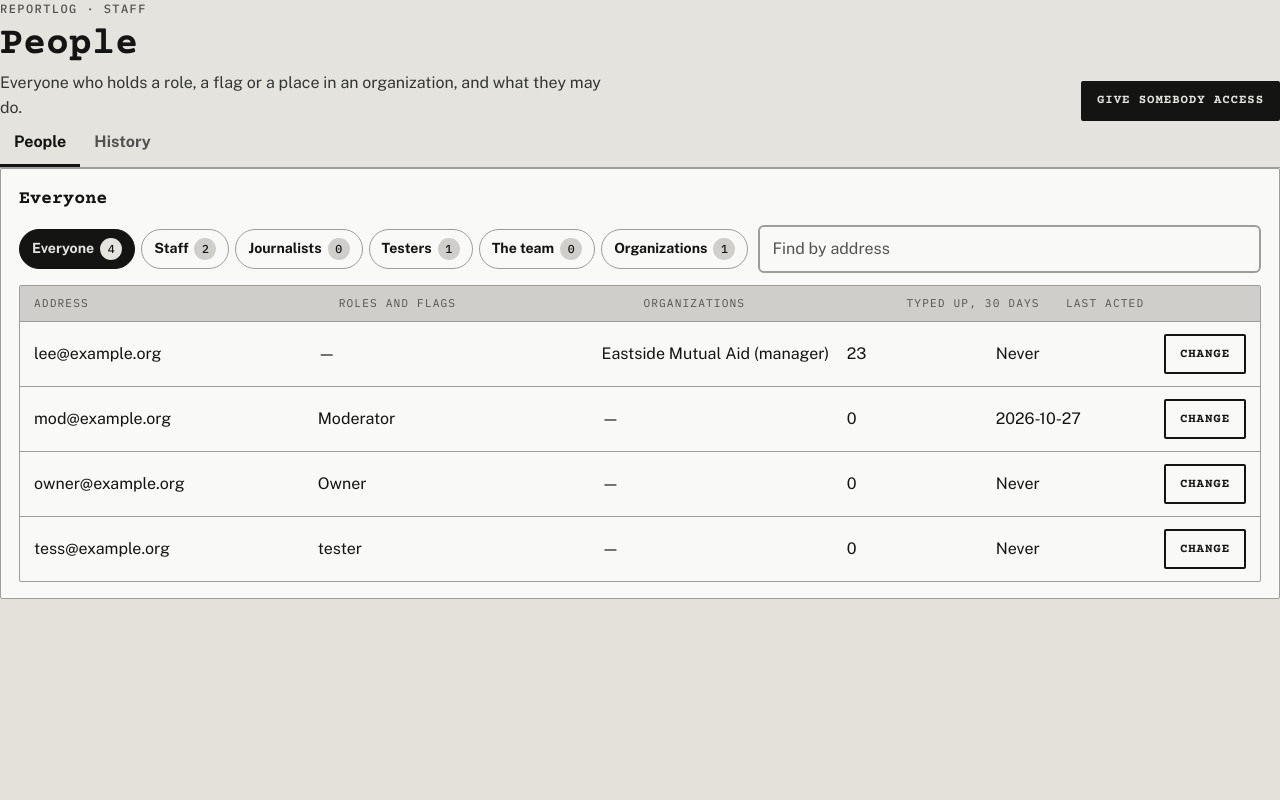
Test: People › offers an Access Manager the moderator role and the flags, never administrator
This screenshot has width=1280, height=800.
Click the button with aria-label "Change mod@example.org". click: [1205, 419]
box: [1164,399,1246,439]
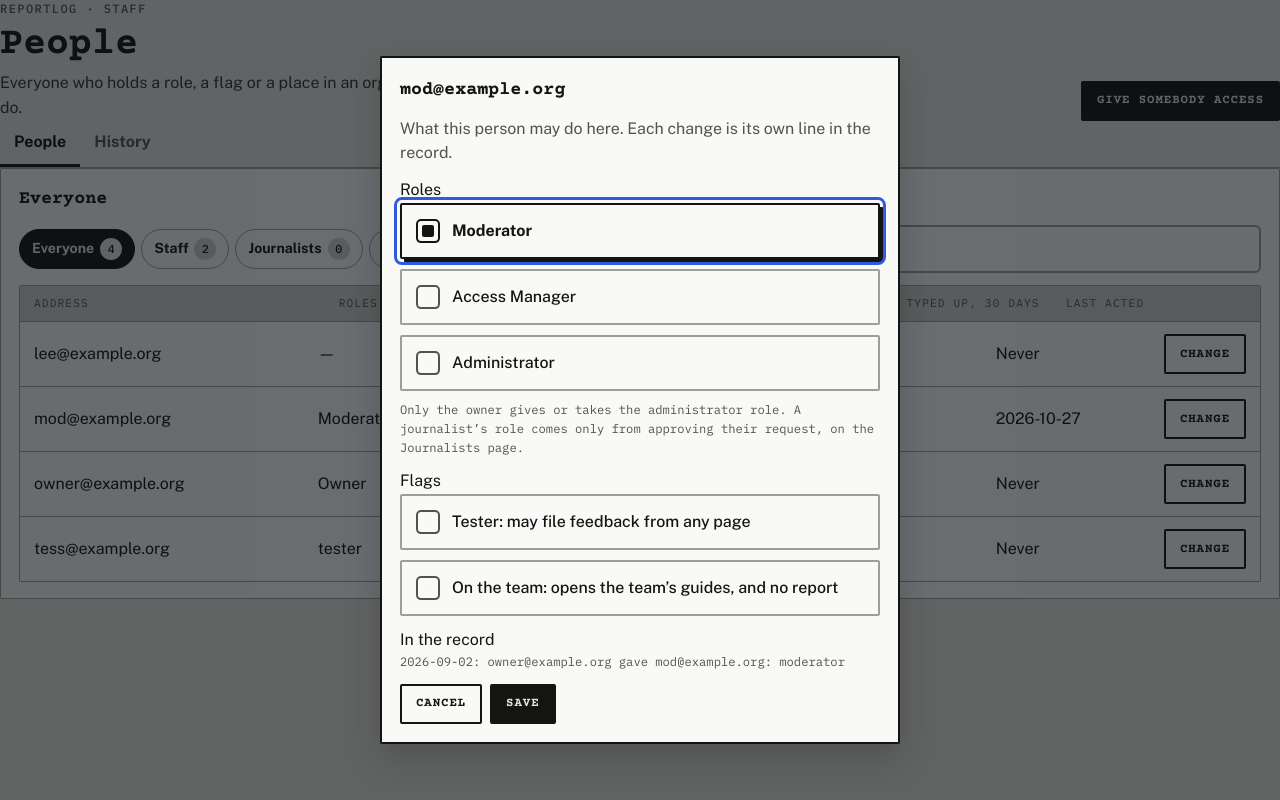
Expected: the checkbox labelled "Moderator" is enabled
Expected: the checkbox labelled "Access Manager" is disabled, [400,269,880,325]
Expected: the checkbox labelled "Administrator" is disabled, [400,335,880,391]
Click the checkbox labelled "Moderator". click: [492, 230]
box: [400,203,880,259]
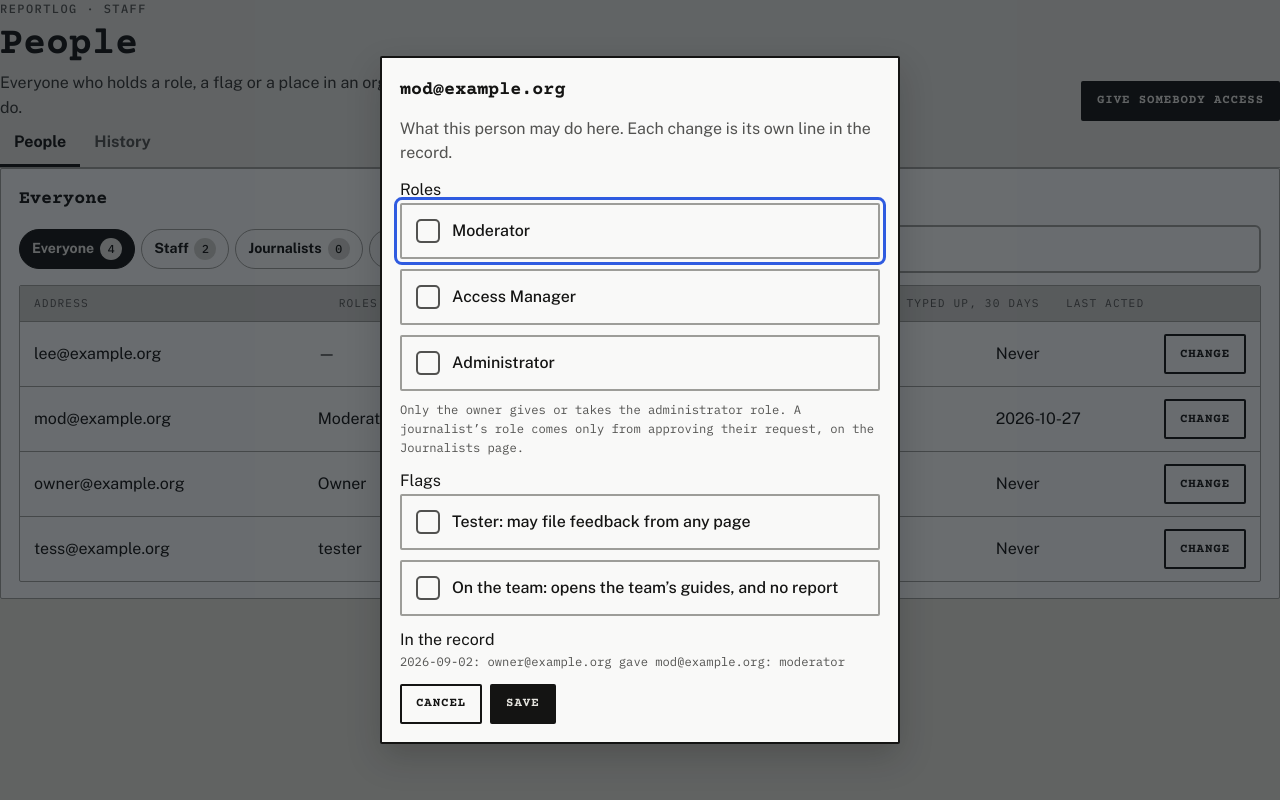
Click the checkbox labelled "Tester: may file feedback from any page". click: [640, 522]
box: [400,494,880,550]
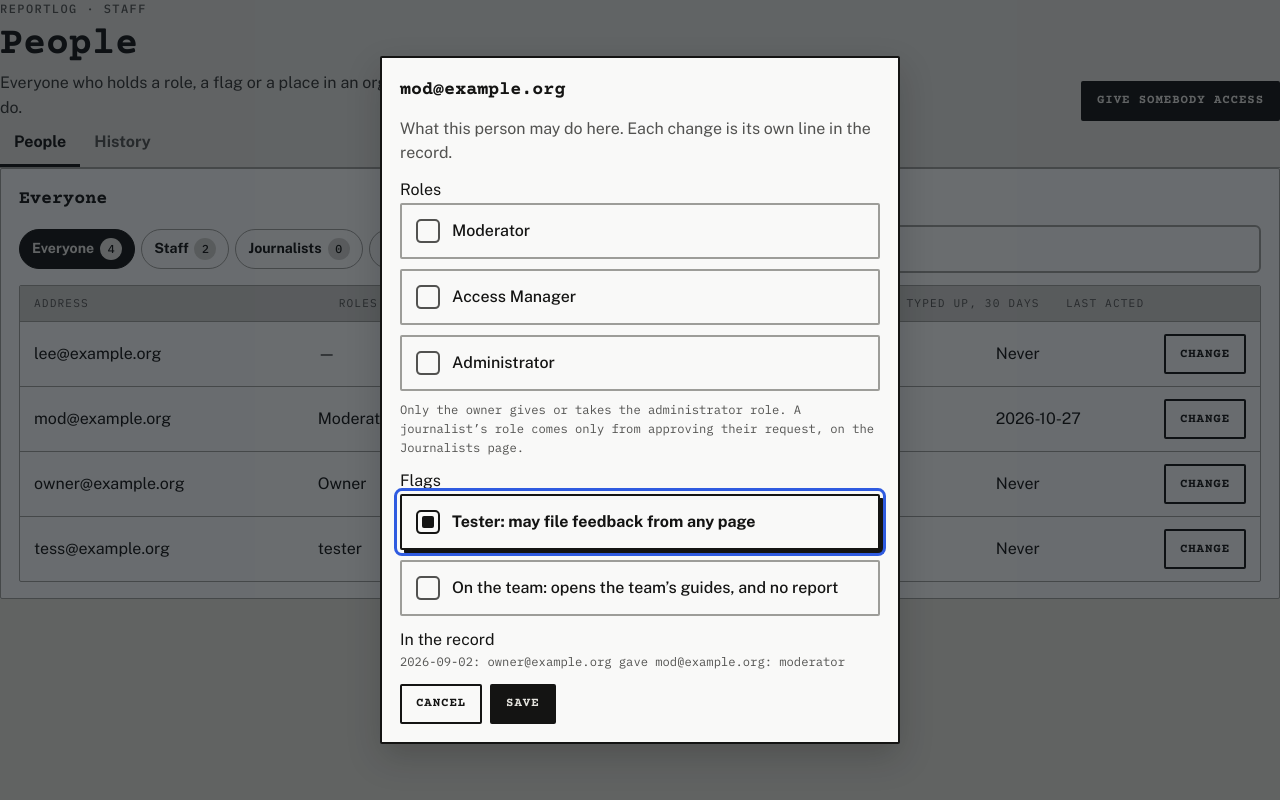
Click the button "Save". click: [523, 704]
box: [490,684,556,724]
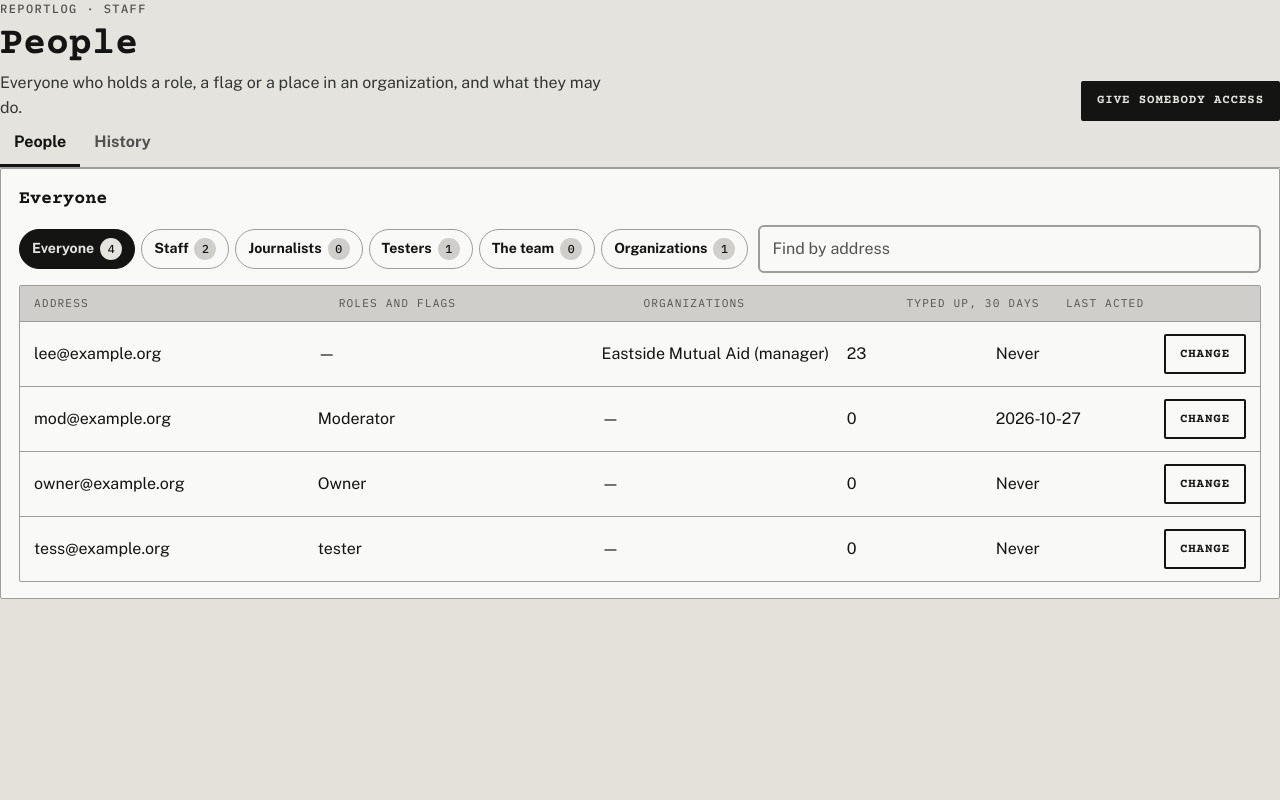
Expected: the dialog is gone
